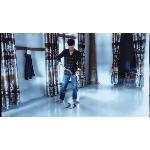Celurit: (60, 66, 74, 81), (72, 70, 82, 86)
